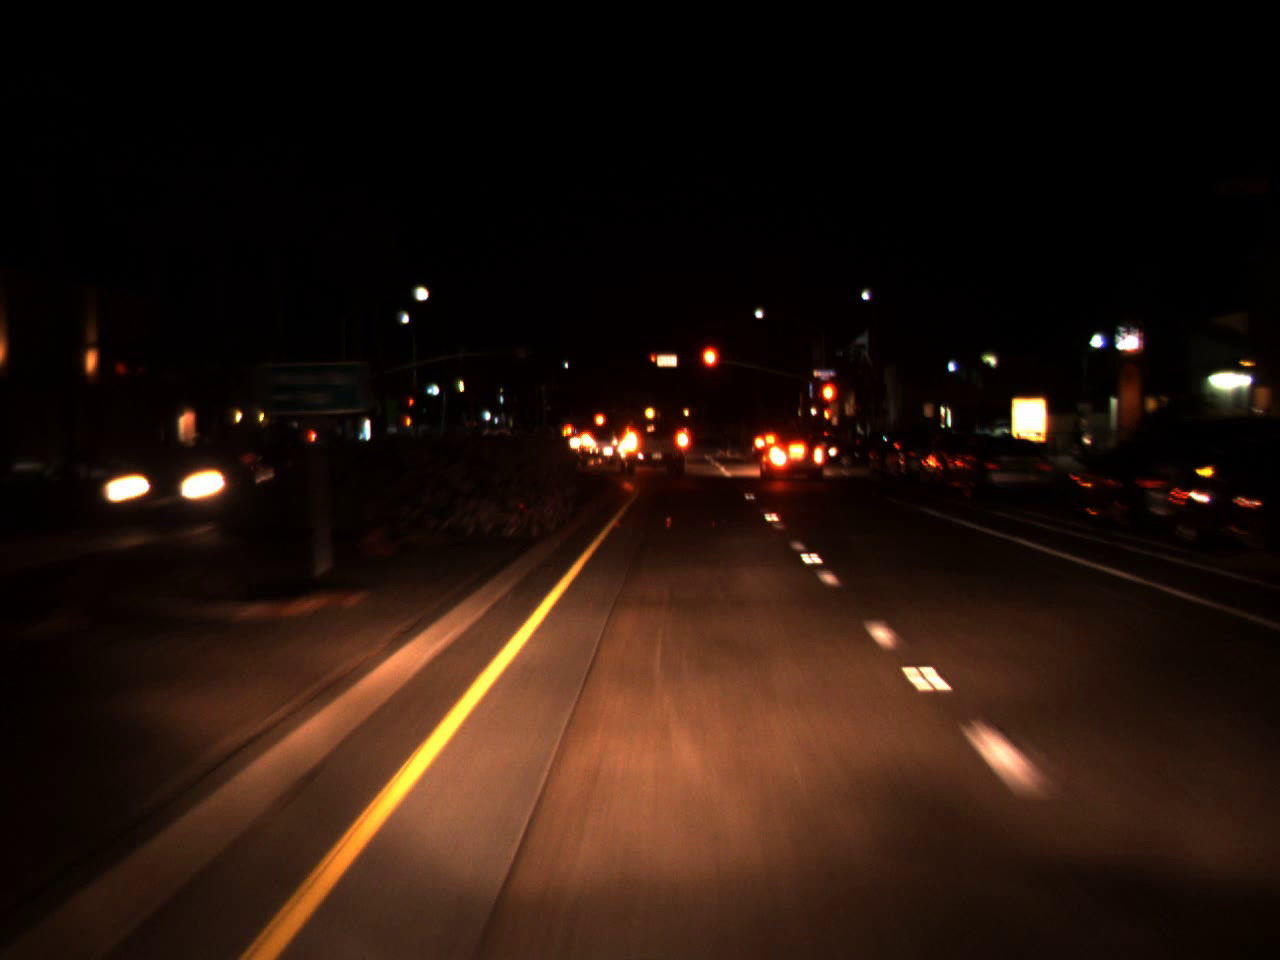stop: (699, 343, 720, 391), (818, 379, 839, 427), (649, 354, 656, 370), (408, 398, 414, 411)
